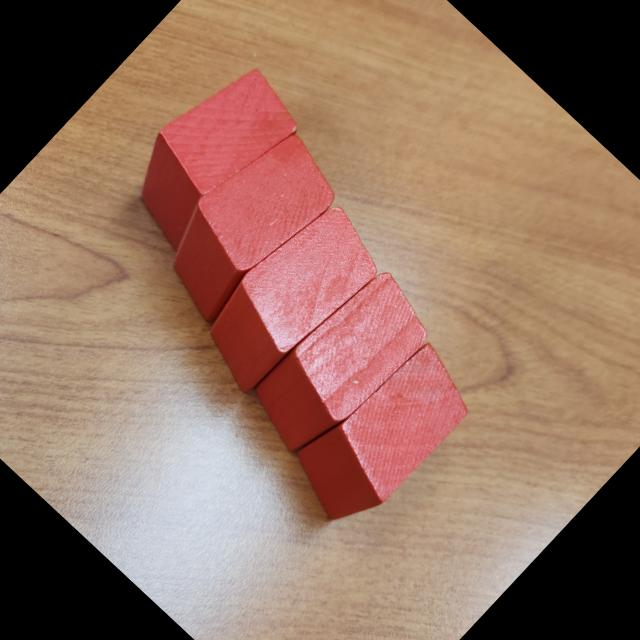red: (274, 326, 488, 544), (140, 115, 351, 331), (183, 190, 393, 406), (239, 260, 443, 470), (106, 50, 310, 258)
